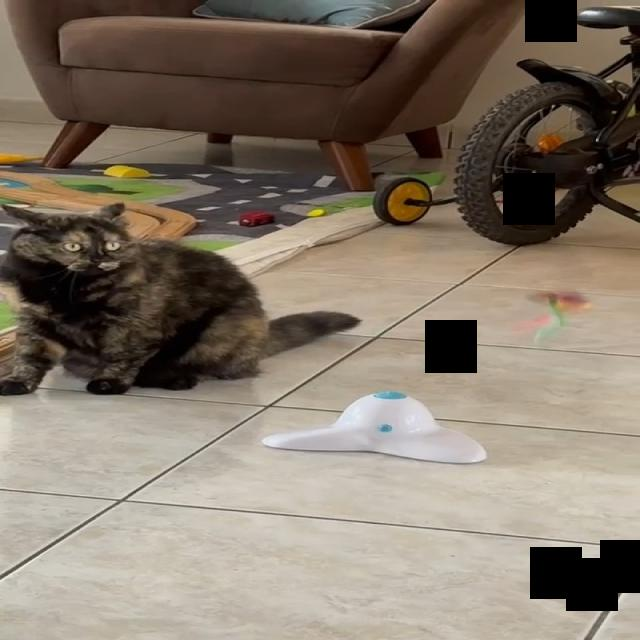authorized: (0, 200, 361, 395)
